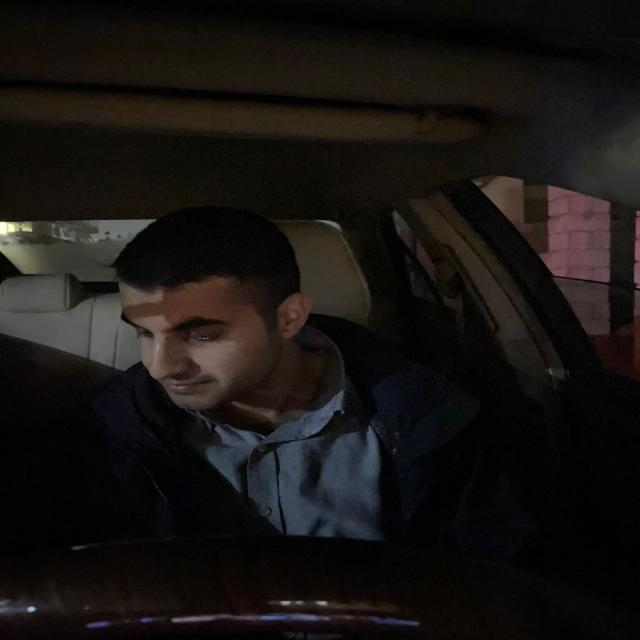person: (114, 206, 309, 422)
